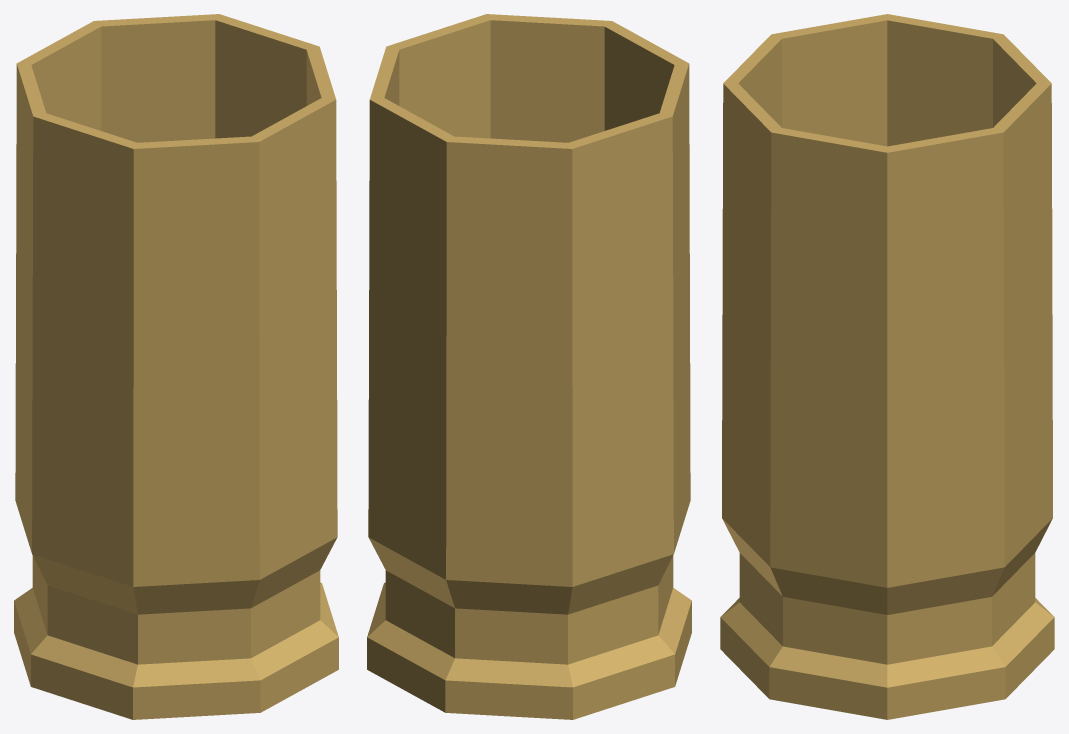
File: case_45ACP.glb
The picture shows the model from 3 angles, left to right: view 1: azimuth 30°, elevation 25°; view 2: azimuth 150°, elevation 25°; view 3: azimuth 270°, elevation 25°; orthographic projection.
Parts seen in each view (by area): view 1: case_45ACP; view 2: case_45ACP; view 3: case_45ACP.
Part boxes in pixels (box(x1,y1,x2,y2)): case_45ACP: box(14, 14, 338, 719); case_45ACP: box(367, 14, 691, 719); case_45ACP: box(720, 14, 1054, 719).
Size of the model in its own units: 0.0122 by 0.0228 by 0.0122.
